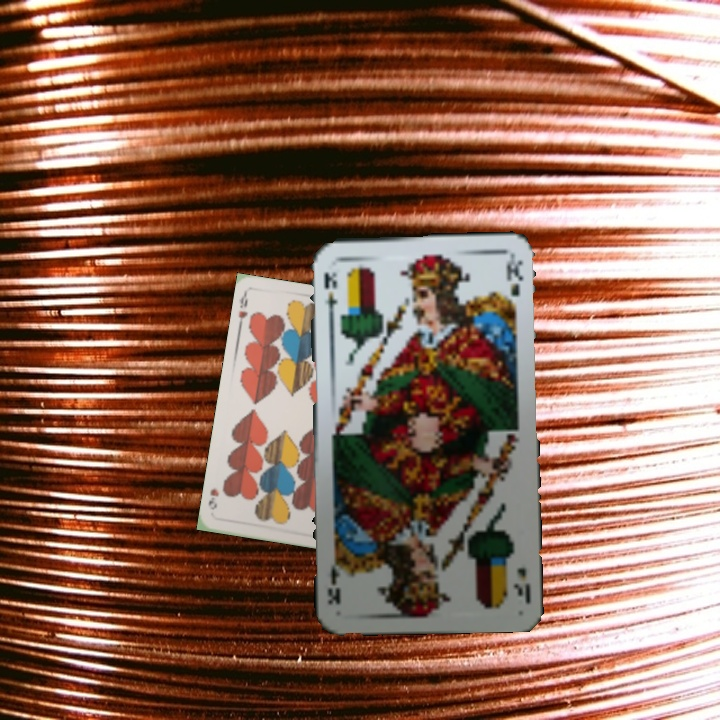EK: (509, 563, 533, 605), (320, 268, 339, 320)
H9: (234, 289, 250, 329)
